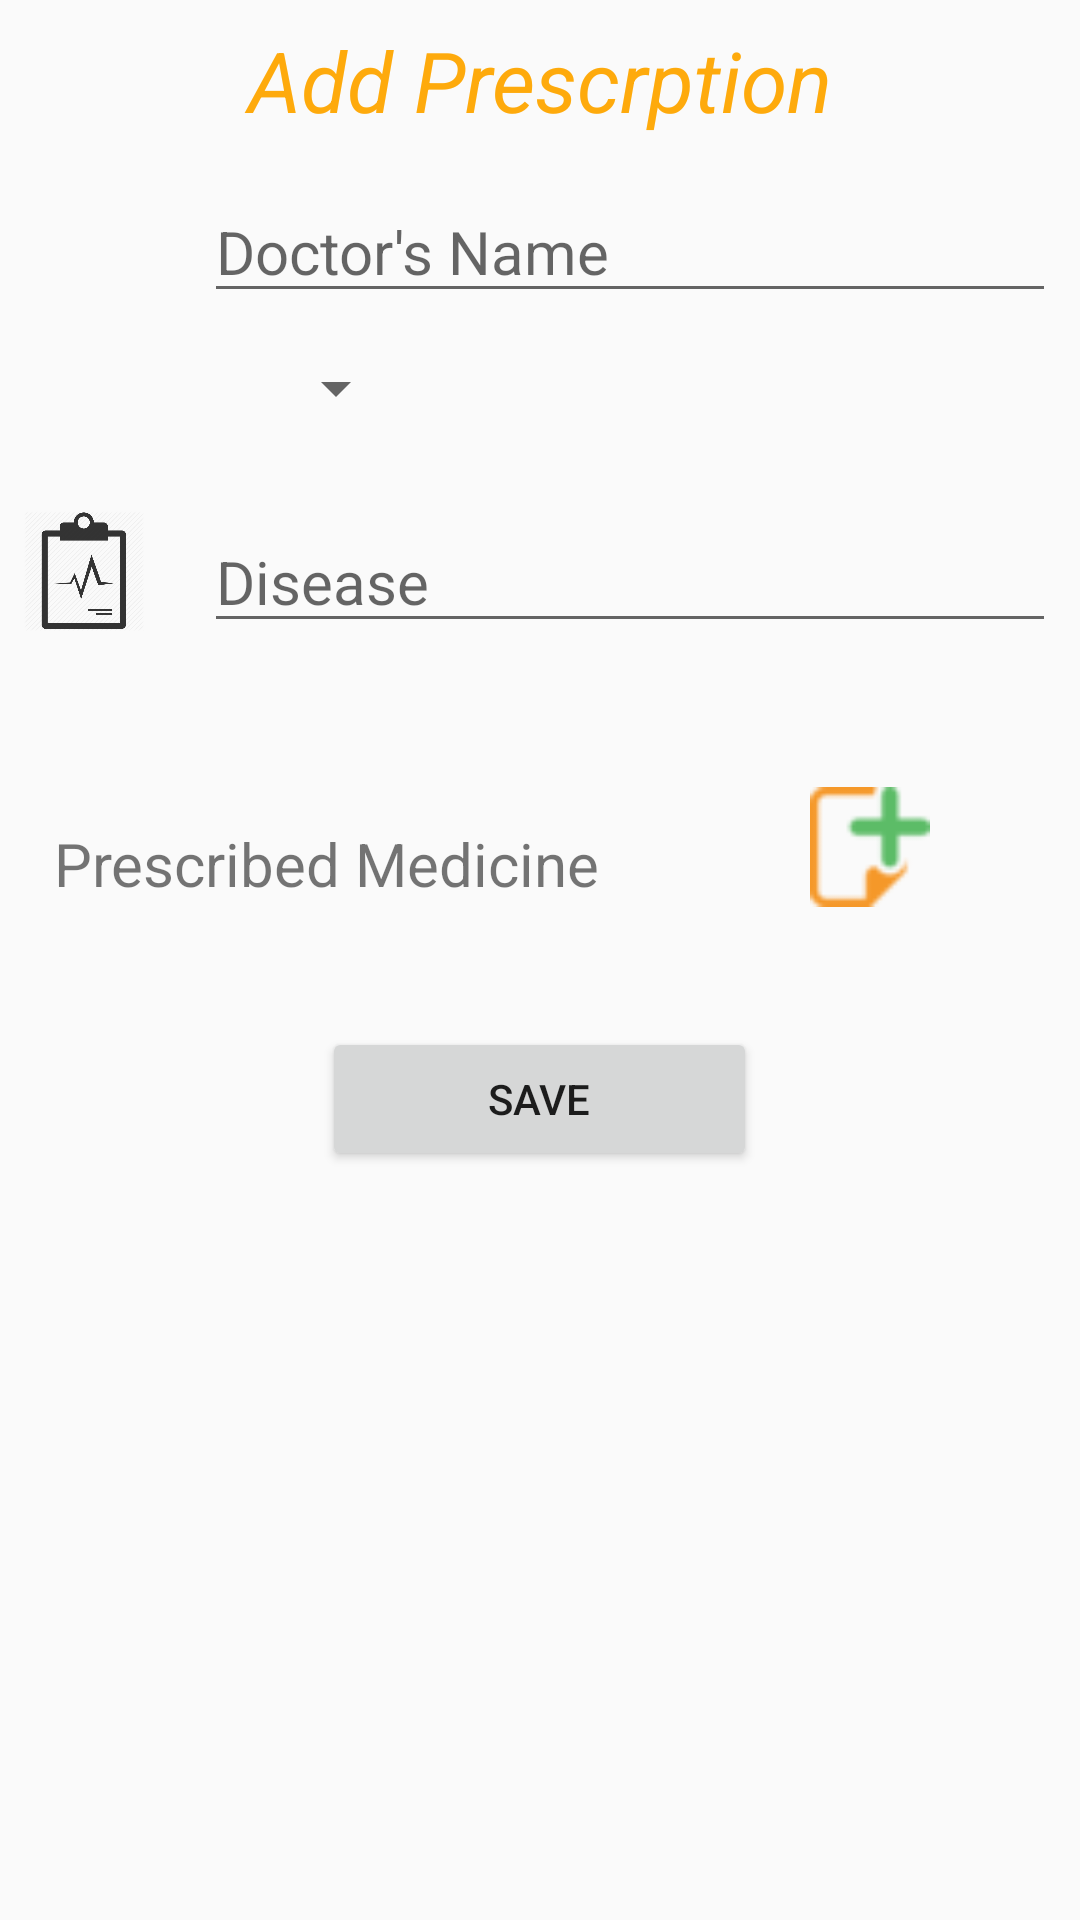

Icon bounding boxes for this 1080w x 1920h phone screenshot, format (x1, y1, x2, y2):
add: (810, 787, 930, 907)
